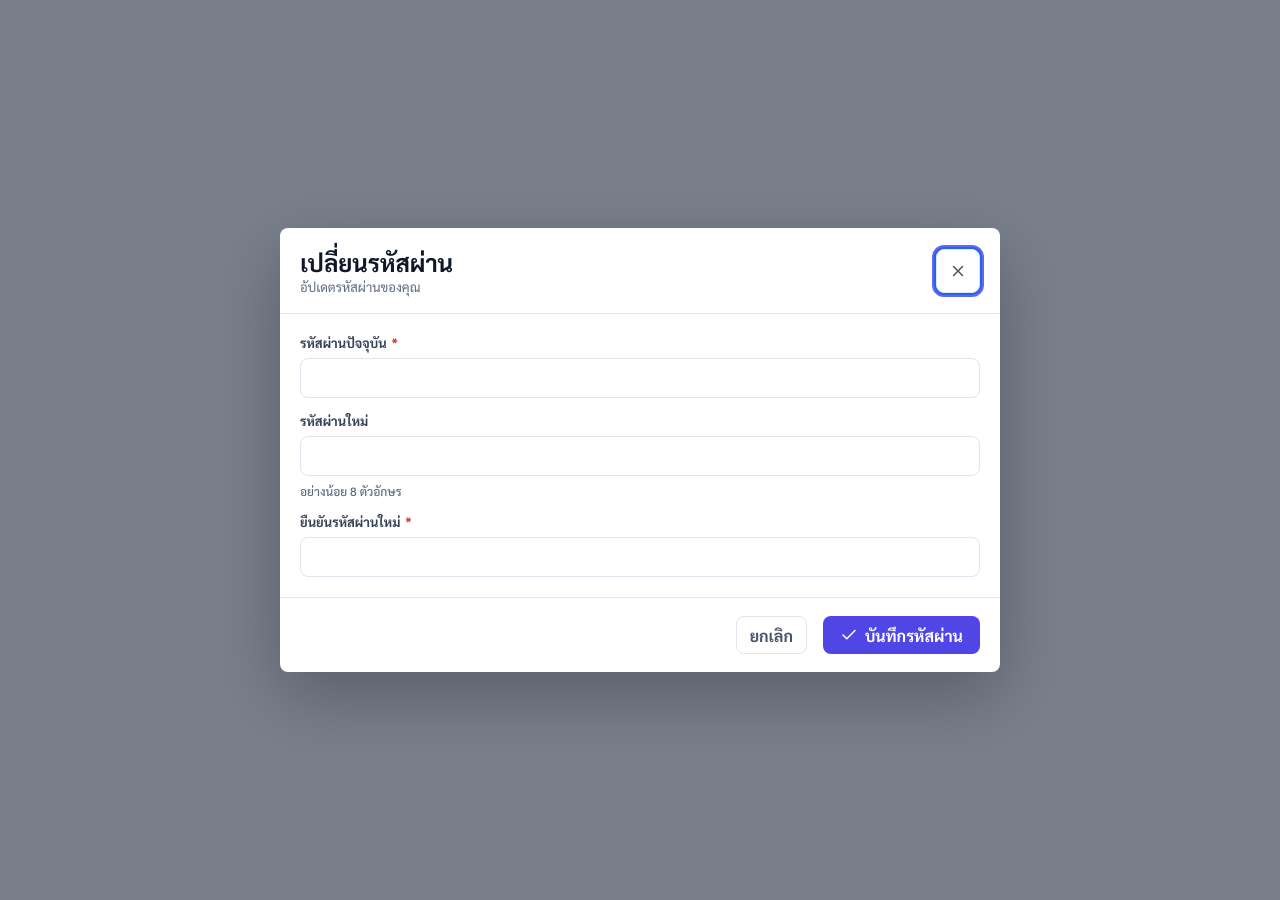
Test: ChangePasswordModal form validation › blocks submit and shows the required message when current password is empty
Type "newpass123" into the password field labelled "รหัสผ่านใหม่" at (640, 456), box [300,436,980,476]
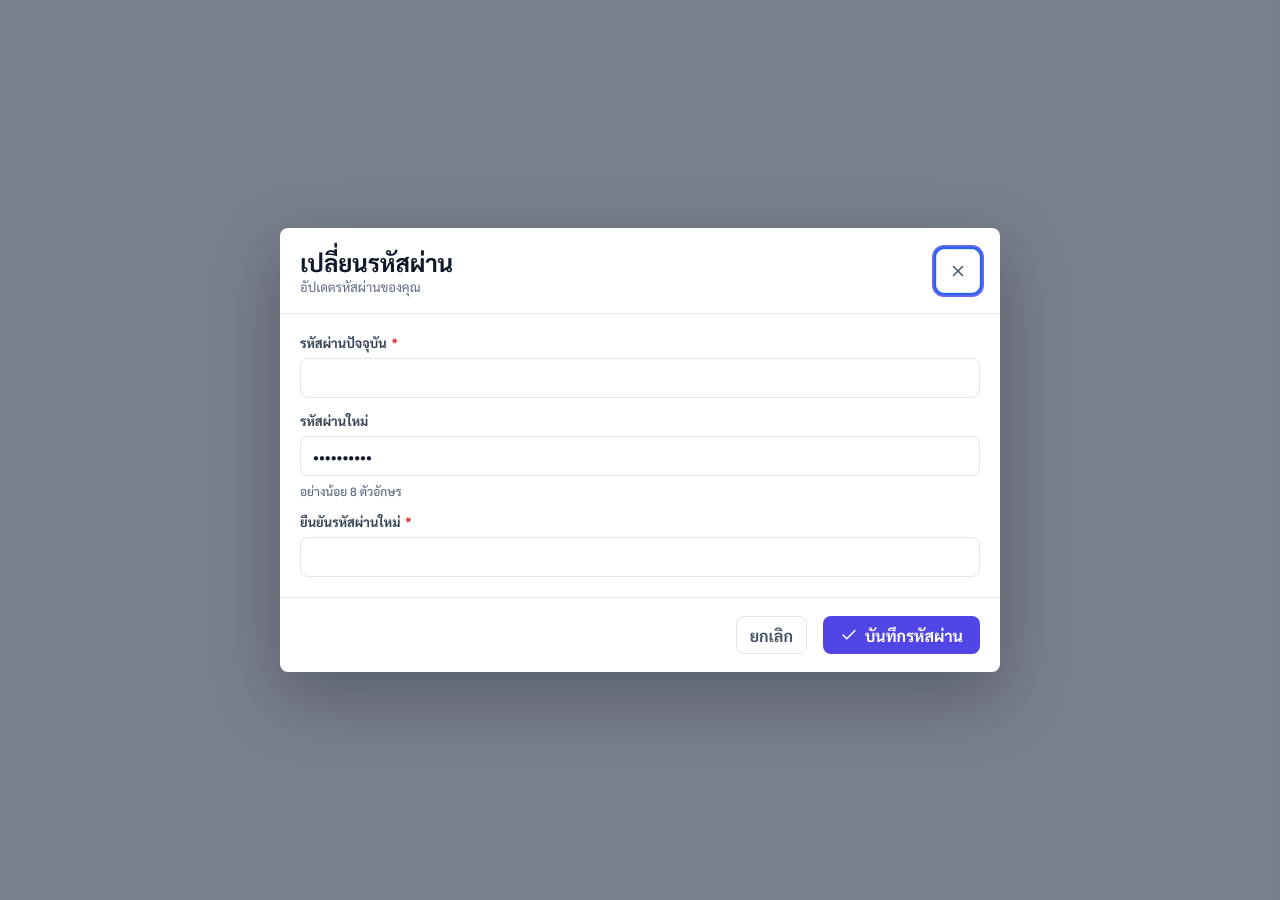
Type "newpass123" into the password field labelled "ยืนยันรหัสผ่านใหม่ *" at (640, 557), box [300,537,980,577]
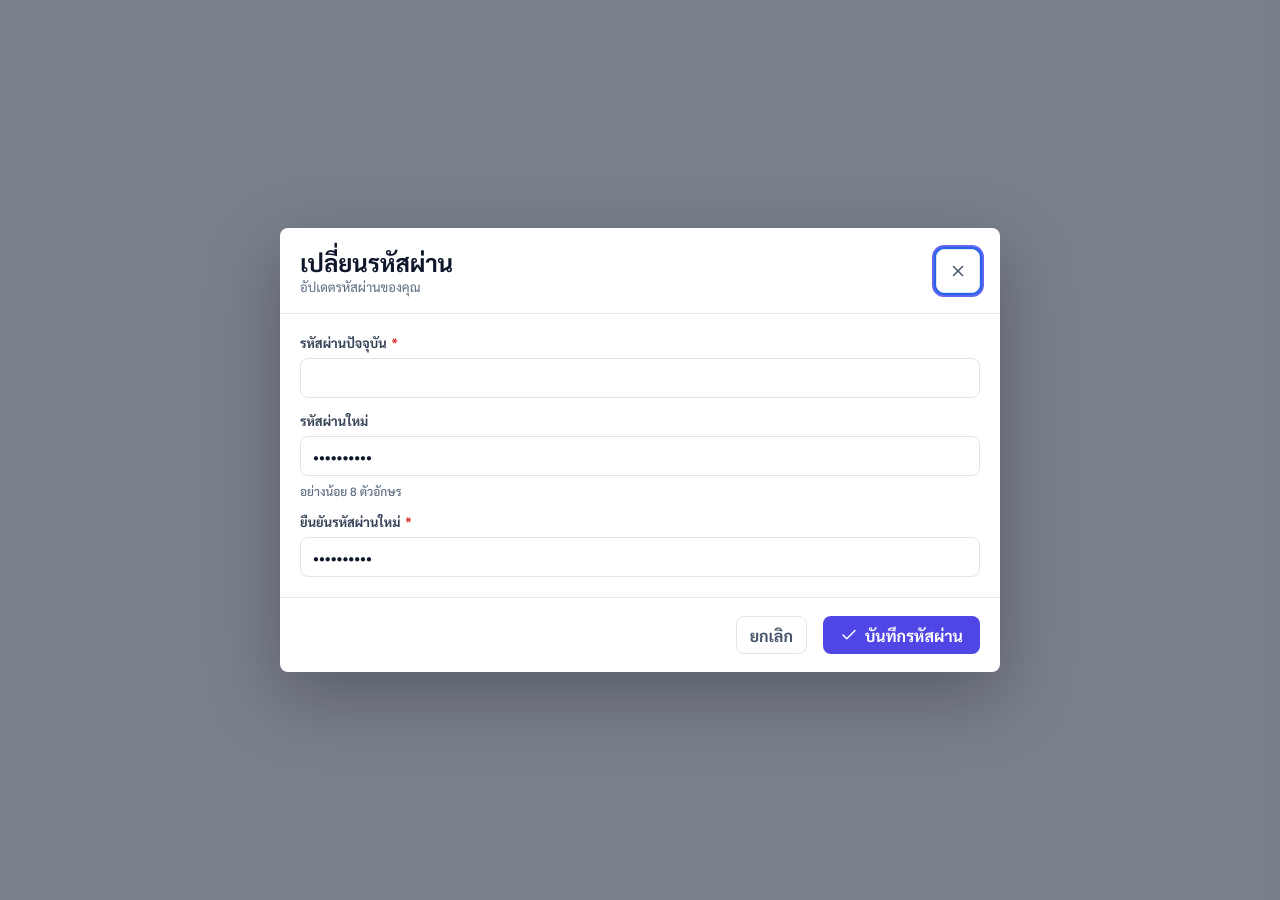
Click the button "บันทึกรหัสผ่าน" at (901, 635), box [823,616,980,654]
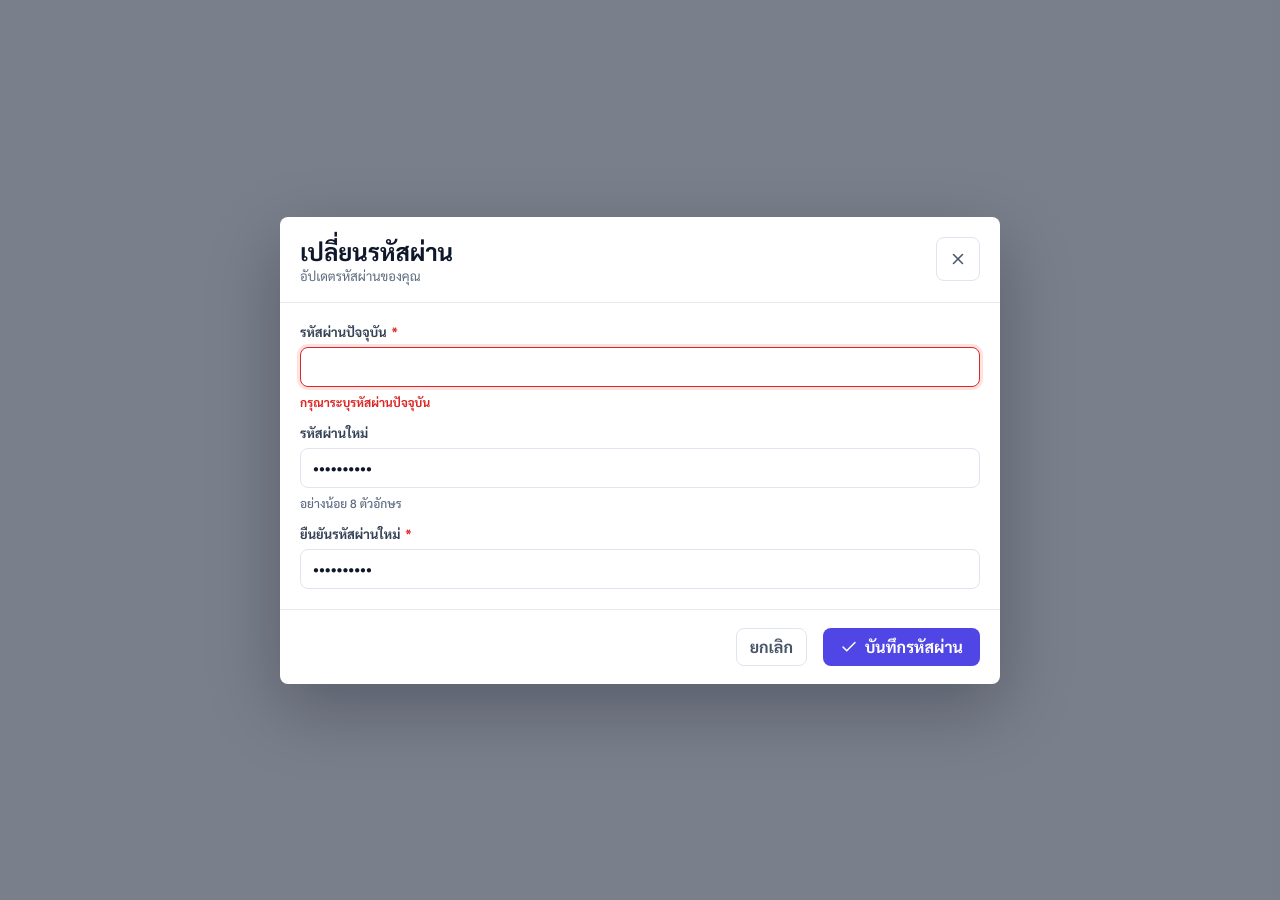
Check: the text "กรุณาระบุรหัสผ่านปัจจุบัน" is shown, box [300,394,430,410]
